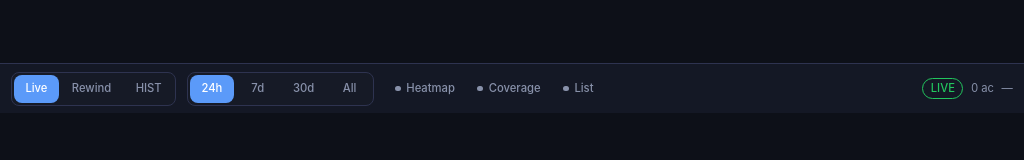
Map page — command bar › reveals HIST date picker chip when switching to HIST
Click the radio button with test id "map-mode-hist". click: (149, 89)
box: [124,75,173,103]
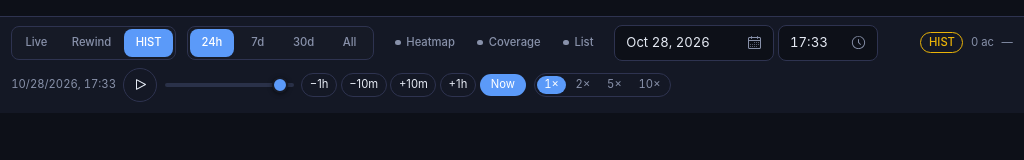
Expected: the element with test id "map-hist-date-picker" is shown, [614,25,878,61]
